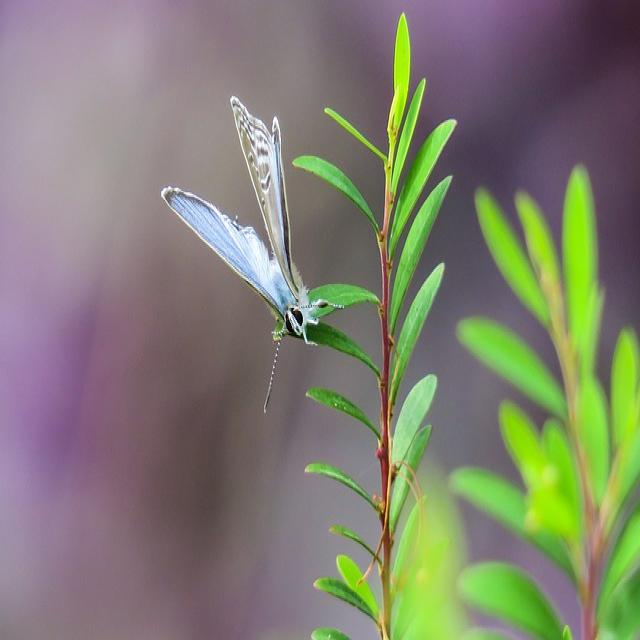butterfly: (161, 98, 343, 341)
